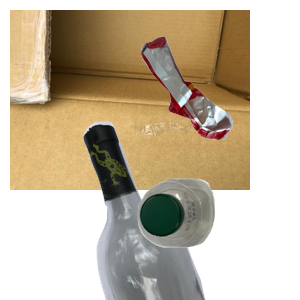cardboard: (10, 10, 250, 190)
glass: (81, 120, 300, 300)
plastic: (135, 176, 300, 300)
trash: (139, 34, 300, 167)
